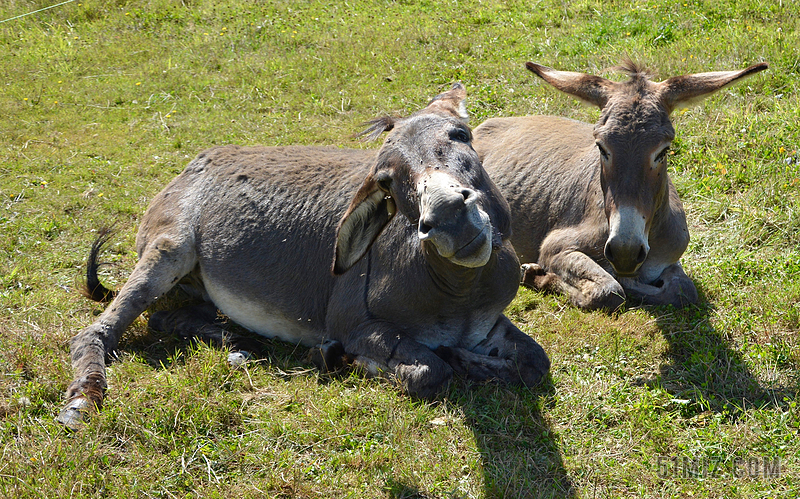background: (471, 57, 768, 314)
